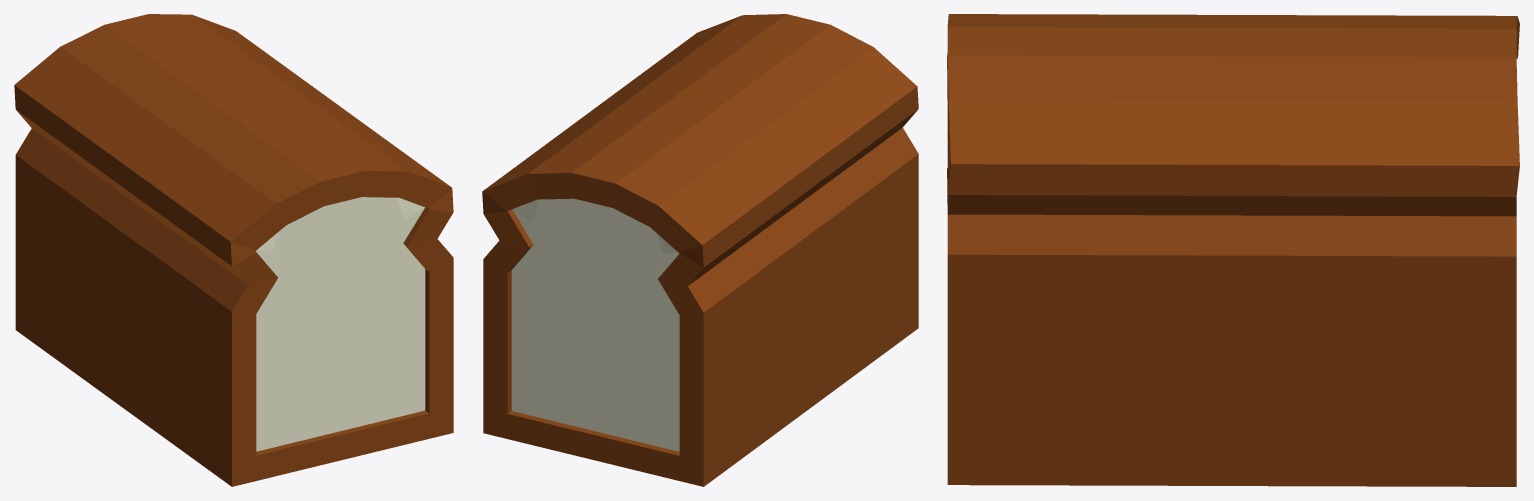
The model's file is BreadModel.fbx.
The picture shows the model from 3 angles, left to right: view 1: azimuth 30°, elevation 25°; view 2: azimuth 150°, elevation 25°; view 3: azimuth 270°, elevation 25°; orthographic projection. The views are drawn at different scales.
Parts seen in each view (by area): view 1: Bread; view 2: Bread; view 3: Bread.
Part boxes in pixels (x1=…): Bread: x1=14, y1=14, x2=453, y2=486; Bread: x1=482, y1=14, x2=918, y2=486; Bread: x1=947, y1=14, x2=1519, y2=486.
Size of the model in its own units: 30.56 by 52.03 by 37.56.
